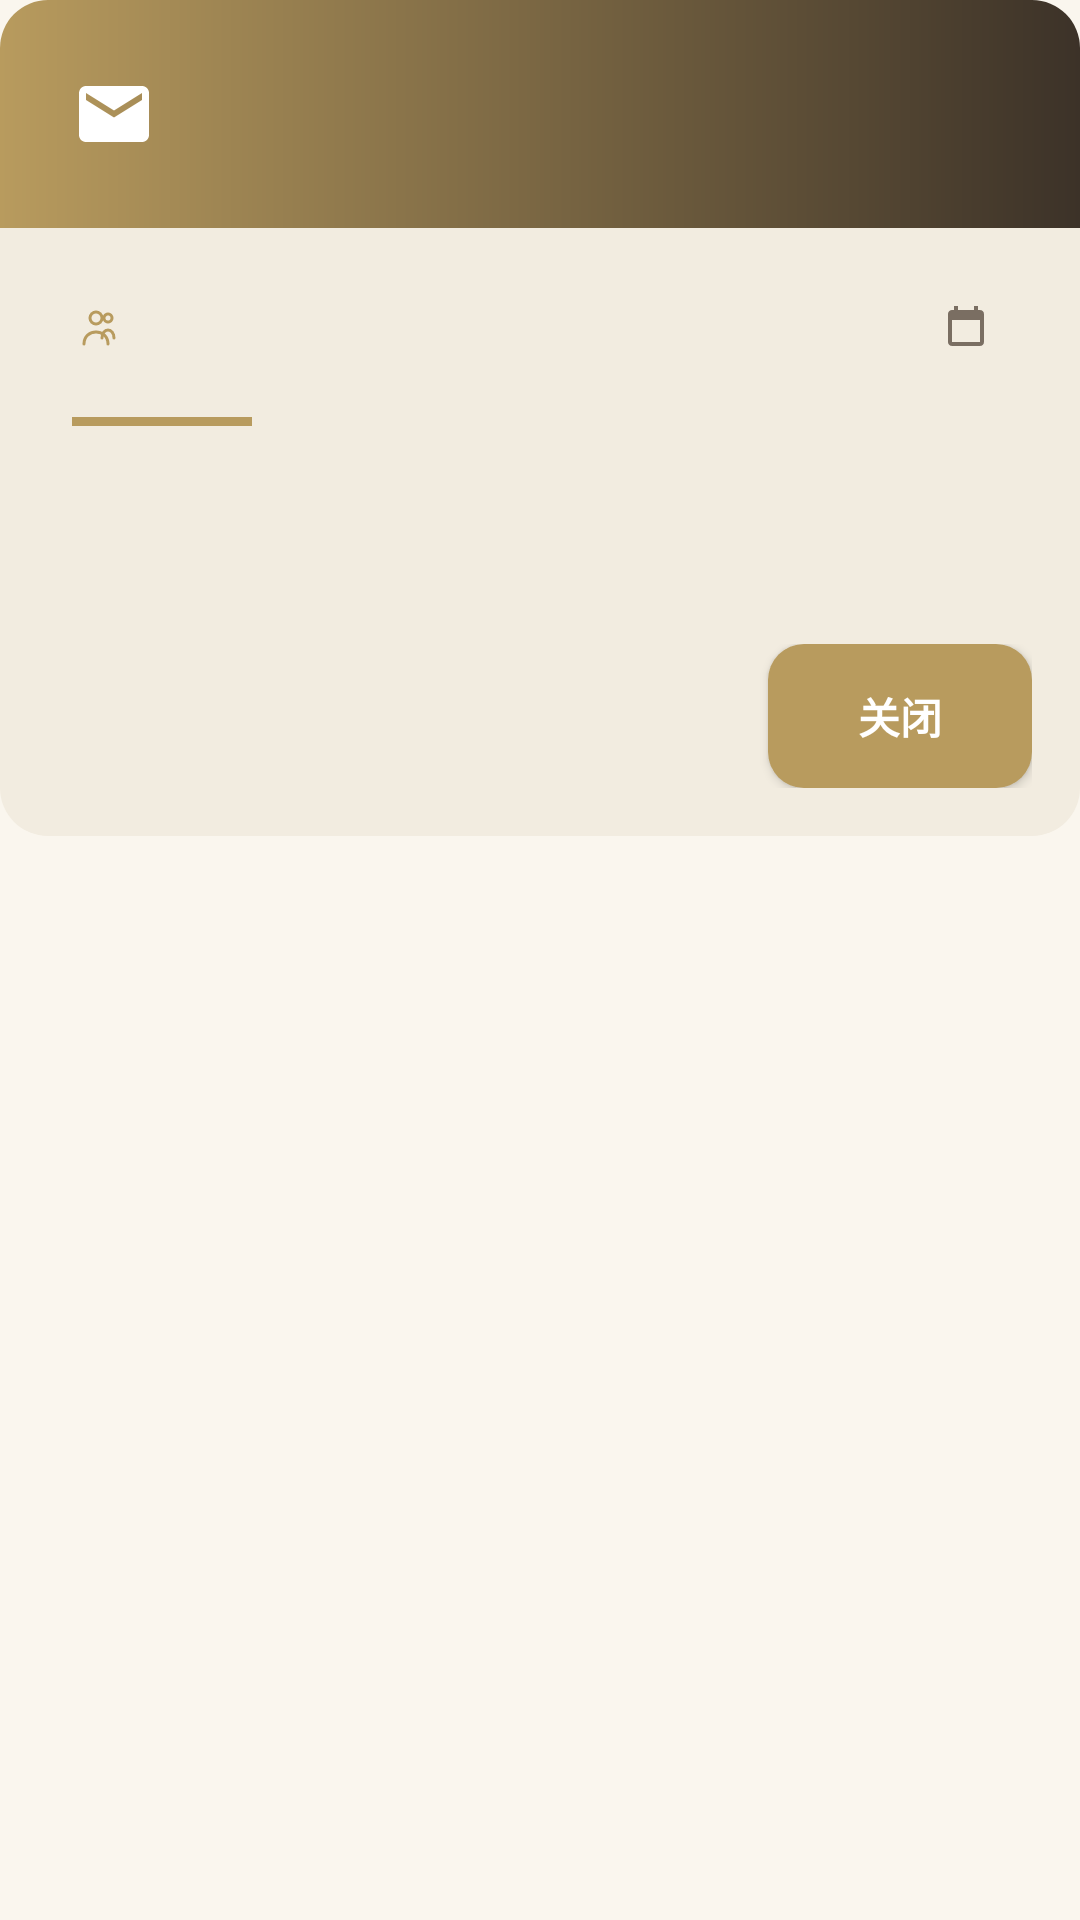

Icon click points for this 1080 × 1920 phone screenshot, format point (x, y):
发件人: point (99, 328)
时间: point (966, 326)
邮件: point (114, 114)
